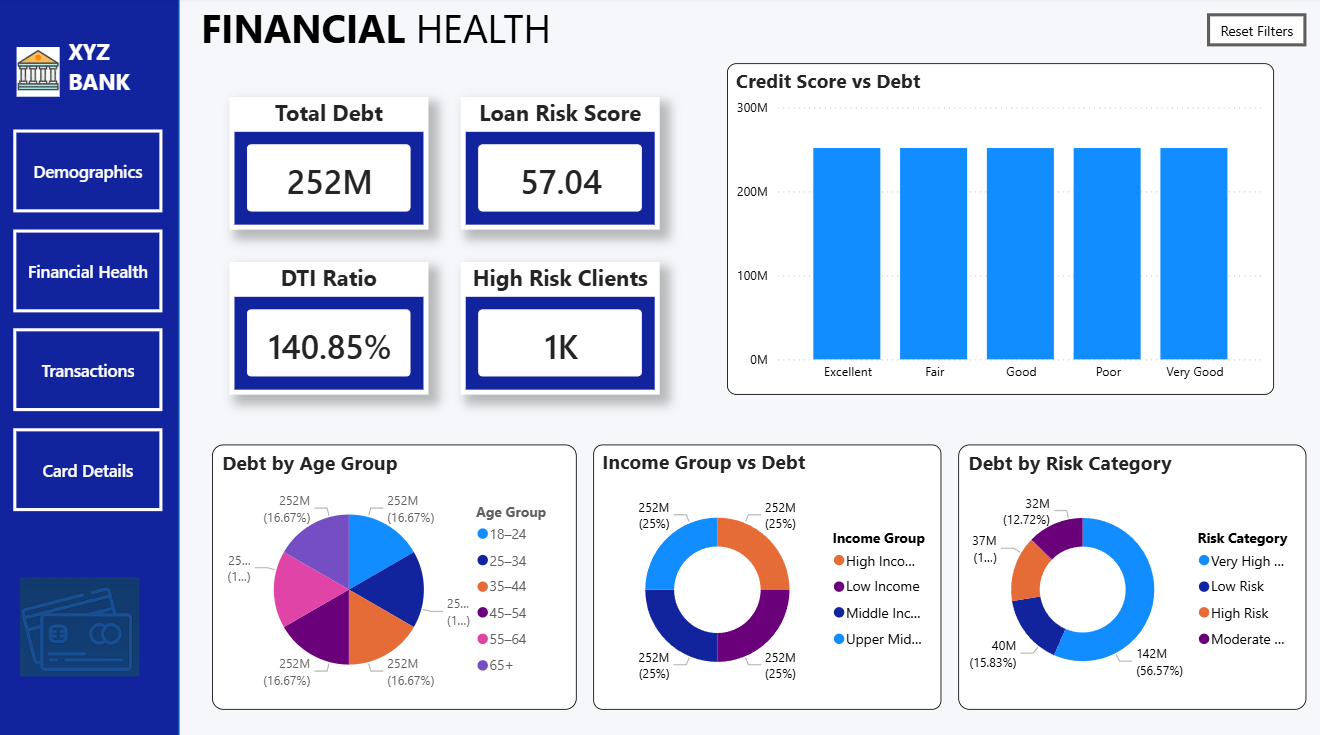

The page's visual inventory and layout, read from the dashboard file:
{"tool":"powerbi","page":{"name":"Financial Health","canvas":[1280,720],"ordinal":1},"visuals":[{"type":"cardVisual","title":"Total Debt ","fields":{"Data":["Fact_Transactions.Total Debt (FH)"]},"box":[224,96,192,128],"z":0},{"type":"cardVisual","title":"Loan Risk Score","fields":{"Data":["Fact_Transactions.Avg Loan Risk Score (FH)"]},"box":[448,96,192,128],"z":1000},{"type":"cardVisual","title":"DTI Ratio","fields":{"Data":["Fact_Transactions.DTI Ratio (FH)"]},"box":[224,256,192,128],"z":2000},{"type":"pieChart","title":"Debt by Age Group","fields":{"Category":["Dim_Client.Age Group"],"Y":["Fact_Transactions.Debt Amount (FH)"]},"box":[208,432,352,256],"z":3000},{"type":"donutChart","title":"Debt by Risk Category","fields":{"Category":["Fact_Debt.Risk Category"],"Y":["Fact_Transactions.Debt Amount (FH)"]},"box":[928,432,336,256],"z":4000},{"type":"donutChart","title":"Income Group vs Debt","fields":{"Category":["Dim_Client.Income Group"],"Y":["Fact_Transactions.Total Debt"]},"box":[576,432,336,256],"z":5000},{"type":"columnChart","title":"Credit Score vs Debt","fields":{"Category":["Dim_Client.Credit Score Category"],"Y":["Fact_Transactions.Total Debt"]},"box":[704,64,528,320],"z":6000},{"type":"shape","box":[0,0,176,720],"z":7000},{"type":"actionButton","box":[16,128,144,80],"z":8000},{"type":"actionButton","box":[16,224,144,80],"z":9000},{"type":"actionButton","box":[16,320,144,80],"z":10000},{"type":"actionButton","box":[16,416,144,80],"z":11000},{"type":"actionButton","box":[1168,16,96,32],"z":12000},{"type":"cardVisual","title":"High Risk Clients","fields":{"Data":["Dim_Client.High Risk Clients"]},"box":[448,256,192,128],"z":13000},{"type":"textbox","box":[192,0,352,64],"z":13001},{"type":"image","box":[16,560,128,96],"z":13002},{"type":"image","box":[16,48,48,48],"z":13003},{"type":"textbox","box":[64,32,80,80],"z":13004}]}

Visuals, with their boxes in screenshot pixels (x1, y1, x2, y2), scaled from the page's 1280x720 canvas onto the 1320x735 screenshot:
"Total Debt " cardVisual: bbox=(231, 98, 429, 229)
"Loan Risk Score" cardVisual: bbox=(462, 98, 660, 229)
"DTI Ratio" cardVisual: bbox=(231, 261, 429, 392)
"Debt by Age Group" pieChart: bbox=(214, 441, 578, 702)
"Debt by Risk Category" donutChart: bbox=(957, 441, 1304, 702)
"Income Group vs Debt" donutChart: bbox=(594, 441, 940, 702)
"Credit Score vs Debt" columnChart: bbox=(726, 65, 1270, 392)
shape: bbox=(0, 0, 182, 734)
actionButton: bbox=(16, 131, 165, 212)
actionButton: bbox=(16, 229, 165, 310)
actionButton: bbox=(16, 327, 165, 408)
actionButton: bbox=(16, 425, 165, 506)
actionButton: bbox=(1204, 16, 1304, 49)
"High Risk Clients" cardVisual: bbox=(462, 261, 660, 392)
textbox: bbox=(198, 0, 561, 65)
image: bbox=(16, 572, 148, 670)
image: bbox=(16, 49, 66, 98)
textbox: bbox=(66, 33, 148, 114)
